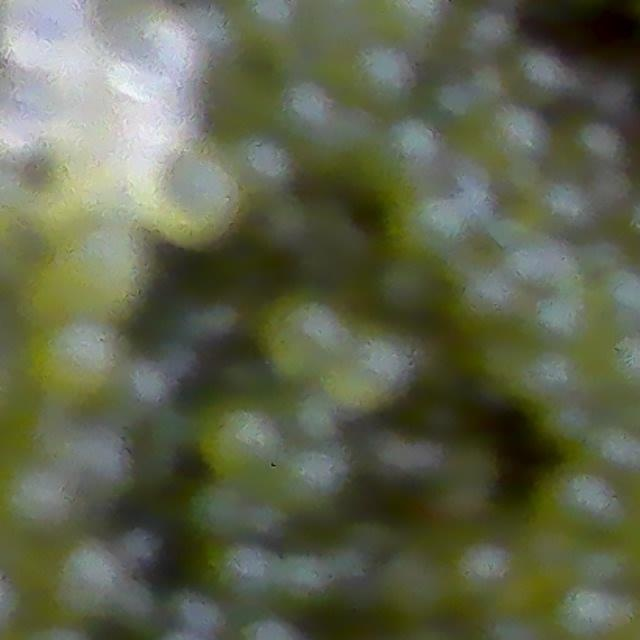SeaGrape: (103, 7, 199, 99), (24, 318, 121, 409), (163, 155, 245, 248), (198, 402, 282, 485), (48, 538, 129, 621), (0, 0, 94, 70), (0, 457, 77, 537), (271, 442, 348, 519), (124, 96, 194, 163), (0, 87, 50, 162), (379, 0, 445, 40)
